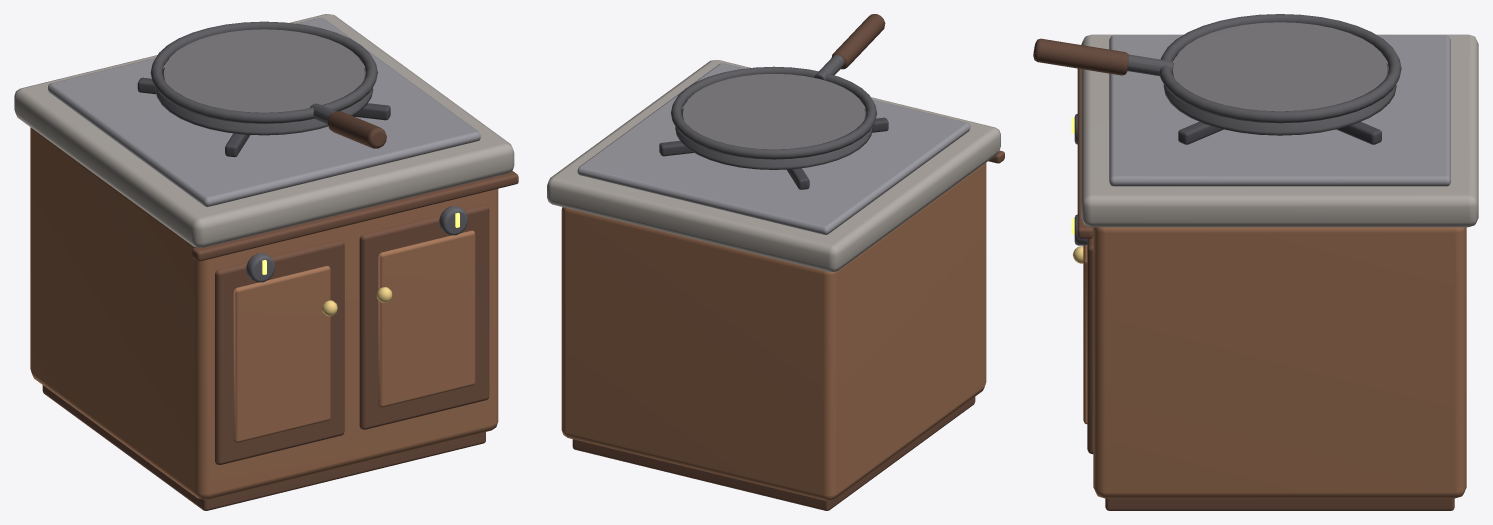
Rendered from pan.glb.
3 renders of one model, left to right at view 1: azimuth 30°, elevation 25°; view 2: azimuth 150°, elevation 25°; view 3: azimuth 270°, elevation 25°, orthographic. The views are drawn at different scales.
Visible parts, largest first — view 1: base, pan; view 2: base, pan; view 3: base, pan.
Part boxes in pixels (x1=…): base: x1=14, y1=14, x2=518, y2=510; pan: x1=150, y1=21, x2=386, y2=148; base: x1=547, y1=60, x2=1004, y2=510; pan: x1=671, y1=14, x2=885, y2=169; base: x1=1071, y1=34, x2=1478, y2=510; pan: x1=1033, y1=14, x2=1401, y2=135.
Size of the model in its own units: 1 by 1.11 by 1.12.
